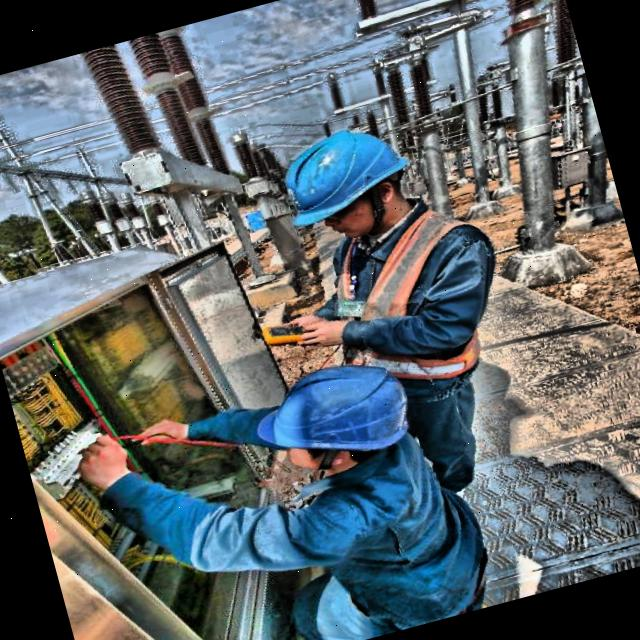helmet: (232, 336, 445, 513), (259, 106, 430, 268)
